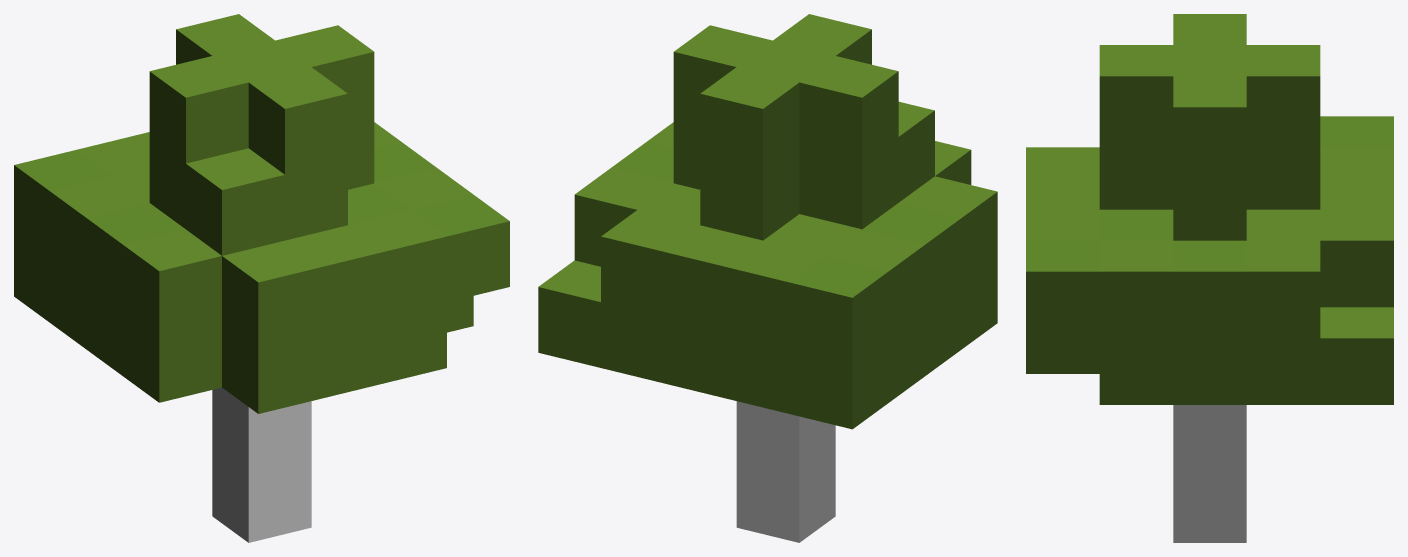
Rendered from EnvTree1.fbx.
3 renders of one model, left to right at view 1: azimuth 30°, elevation 25°; view 2: azimuth 150°, elevation 25°; view 3: azimuth 270°, elevation 25°, orthographic.
Parts seen in each view (by area): view 1: EnvTree1; view 2: EnvTree1; view 3: EnvTree1.
Part boxes in pixels (bbox=[...]): EnvTree1: bbox=[14, 14, 509, 542]; EnvTree1: bbox=[538, 14, 997, 542]; EnvTree1: bbox=[1026, 14, 1393, 542].
Bounding box in the file's own units: 500 × 700 × 500.
